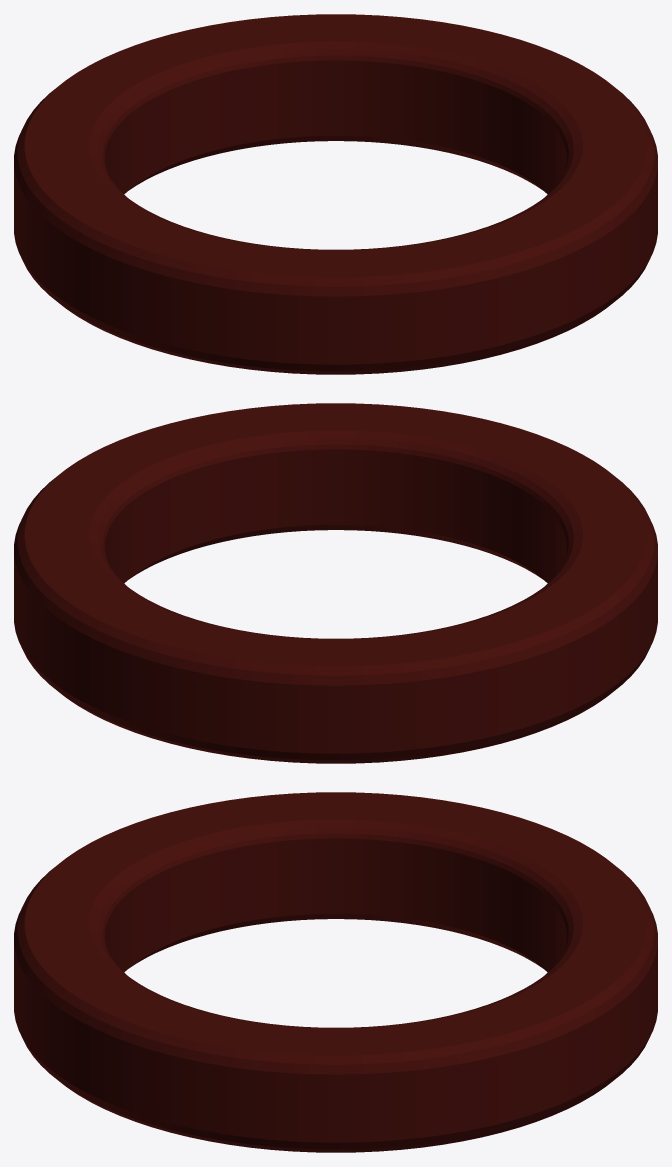
File: Supersimple-circle-red.fbx
3 views of the same model, one above another, from view 1: azimuth 30°, elevation 25°; view 2: azimuth 150°, elevation 25°; view 3: azimuth 270°, elevation 25° (orthographic).
Parts seen in each view (by area): view 1: Office props_Ring 9; view 2: Office props_Ring 9; view 3: Office props_Ring 9.
Part boxes in pixels (<box>): Office props_Ring 9: <box>14,14,657,374</box>; Office props_Ring 9: <box>14,403,657,763</box>; Office props_Ring 9: <box>14,792,657,1152</box>.
Bounding box in the file's own units: 0.24 × 0.04 × 0.2399.
